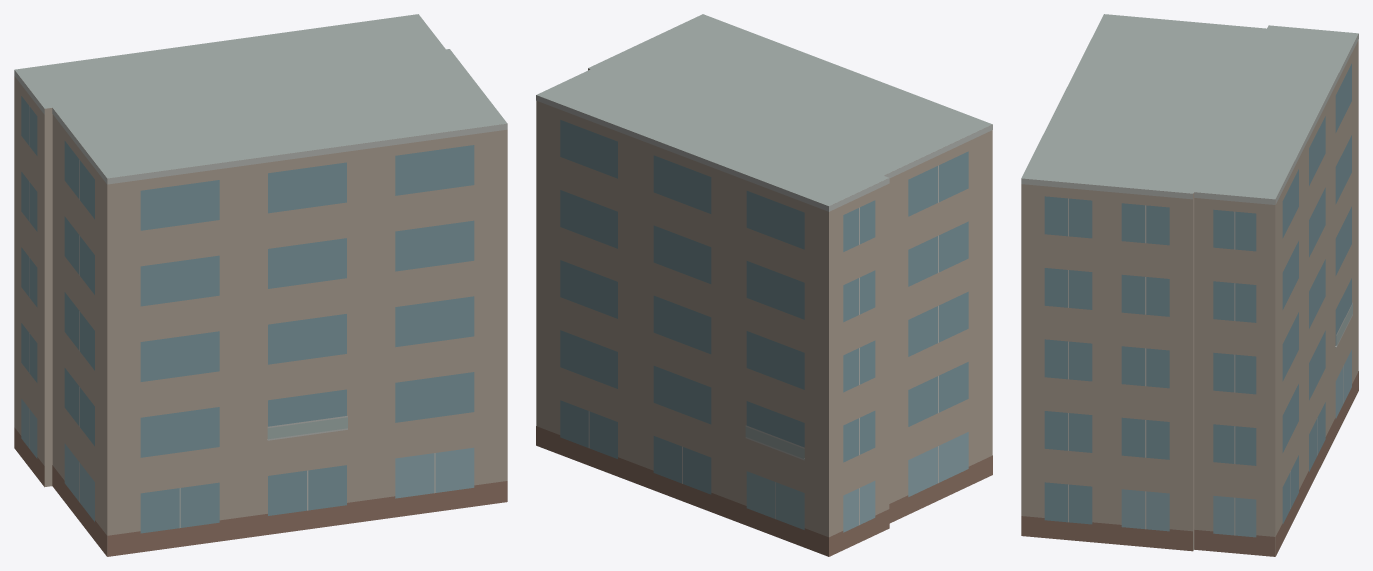
File: survey-upis-32767741.glb
The picture shows the model from 3 angles, left to right: view 1: azimuth 30°, elevation 25°; view 2: azimuth 150°, elevation 25°; view 3: azimuth 270°, elevation 25°; orthographic projection. The views are drawn at different scales.
Visible parts, largest first — view 1: survey-upis-32767741.tmp; view 2: survey-upis-32767741.tmp; view 3: survey-upis-32767741.tmp.
Boxes of the visible parts, bbox=[...] form: survey-upis-32767741.tmp: bbox=[14, 14, 507, 556]; survey-upis-32767741.tmp: bbox=[536, 14, 992, 556]; survey-upis-32767741.tmp: bbox=[1021, 14, 1358, 556].
Size of the model in its own units: 17.08 by 15.35 by 13.15.
